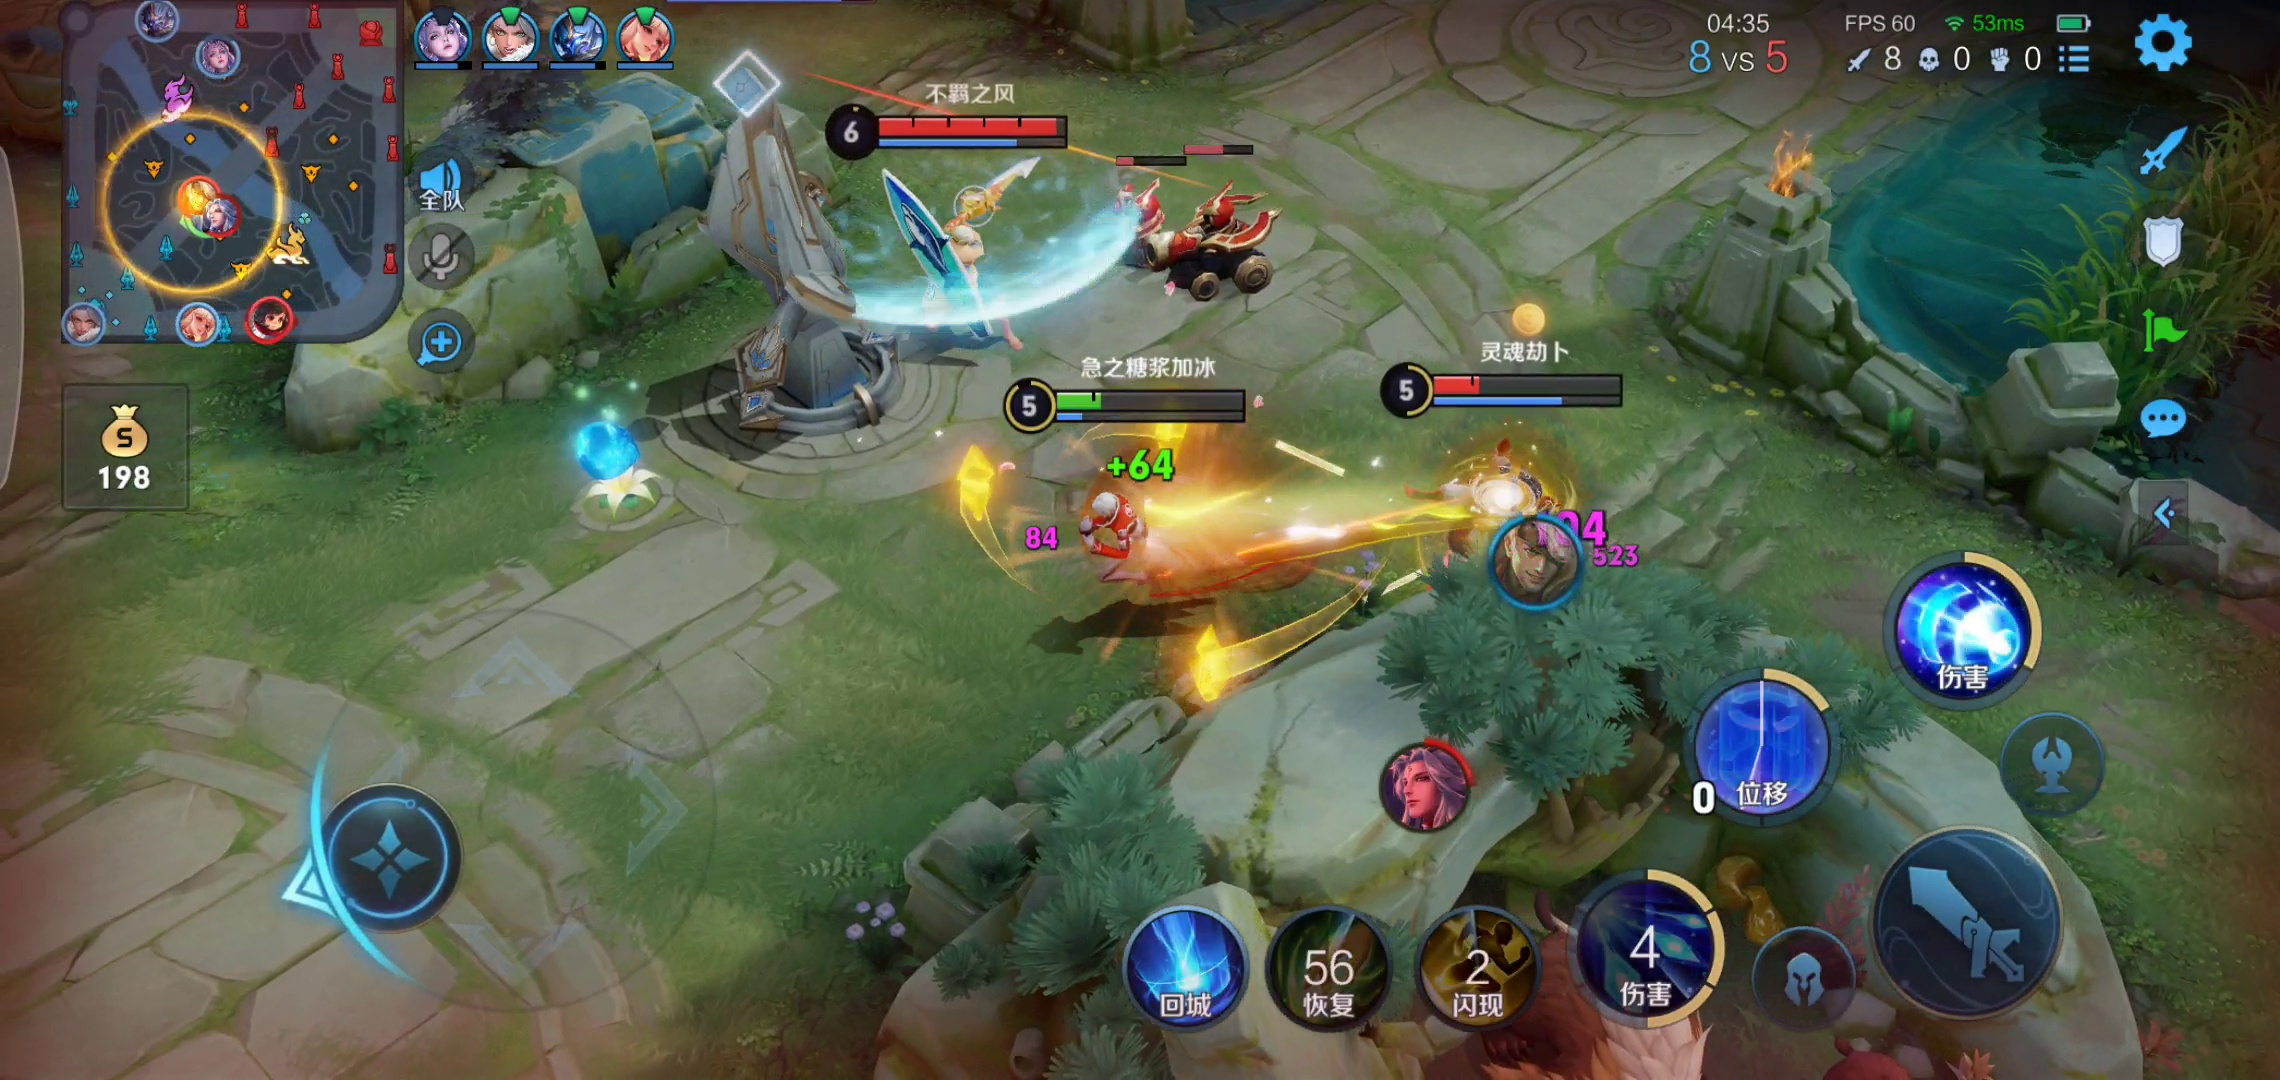grass: (1994, 97, 2280, 427)
hero: (1399, 451, 1645, 605), (1057, 467, 1248, 637), (874, 173, 1032, 350)
soldier: (1171, 183, 1280, 307), (1104, 177, 1169, 288)
tower: (675, 57, 897, 451)
